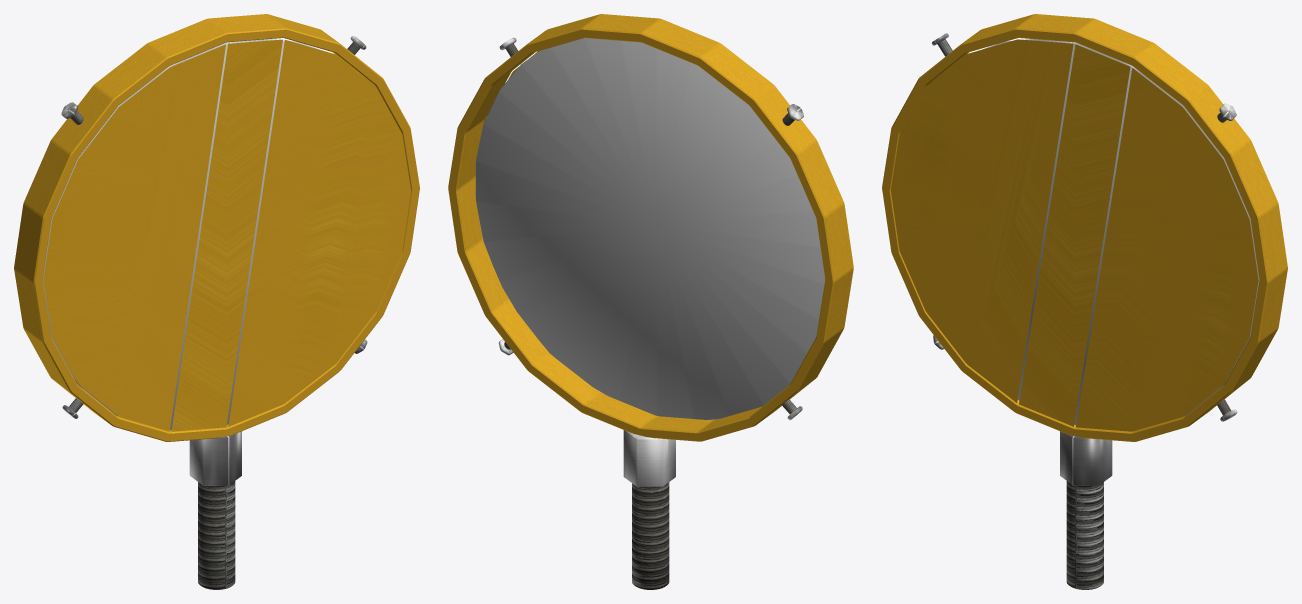
3 views of the same model, side by side, from view 1: azimuth 30°, elevation 25°; view 2: azimuth 150°, elevation 25°; view 3: azimuth 330°, elevation 25° (orthographic).
Visible parts, largest first — view 1: 外枠, obj2, obj1, obj3; view 2: obj1, 外枠, obj2, obj3; view 3: 外枠, obj2, obj1, obj3.
Part boxes in pixels (left/top/right/bottom): 外枠: left=14, top=14, right=419, bottom=441; obj2: left=198, top=481, right=235, bottom=589; obj1: left=42, top=39, right=358, bottom=429; obj3: left=189, top=431, right=241, bottom=485; obj1: left=475, top=38, right=824, bottom=419; 外枠: left=448, top=14, right=853, bottom=441; obj2: left=632, top=482, right=669, bottom=589; obj3: left=623, top=430, right=675, bottom=486; 外枠: left=882, top=14, right=1287, bottom=441; obj2: left=1066, top=481, right=1103, bottom=589; obj1: left=983, top=39, right=1259, bottom=424; obj3: left=1060, top=431, right=1112, bottom=485.
Bounding box in the file's own units: 196 × 270 × 23.04.
Materials: 4 (3 with a texture image).
